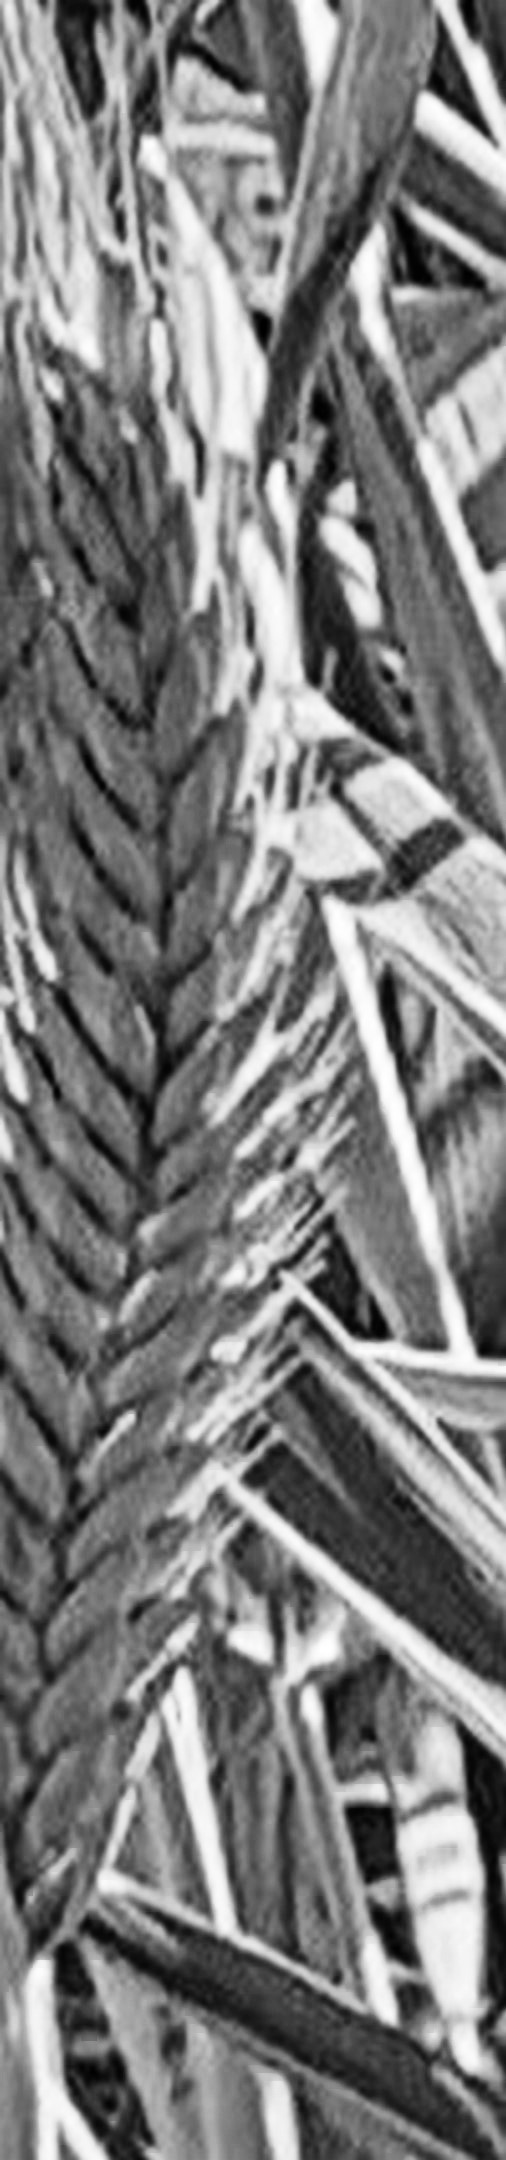Healthy Wheat: (1, 350, 336, 1875)
